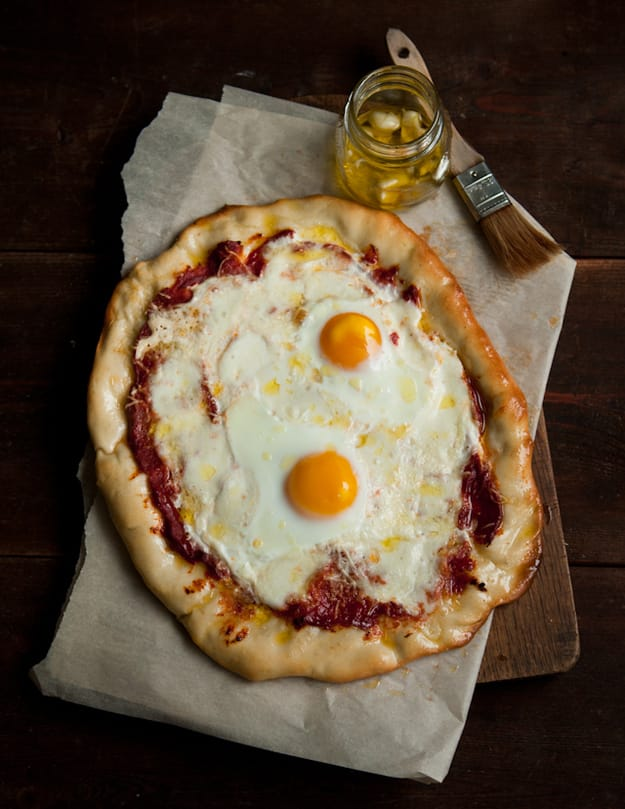fried egg: (196, 301, 432, 562)
